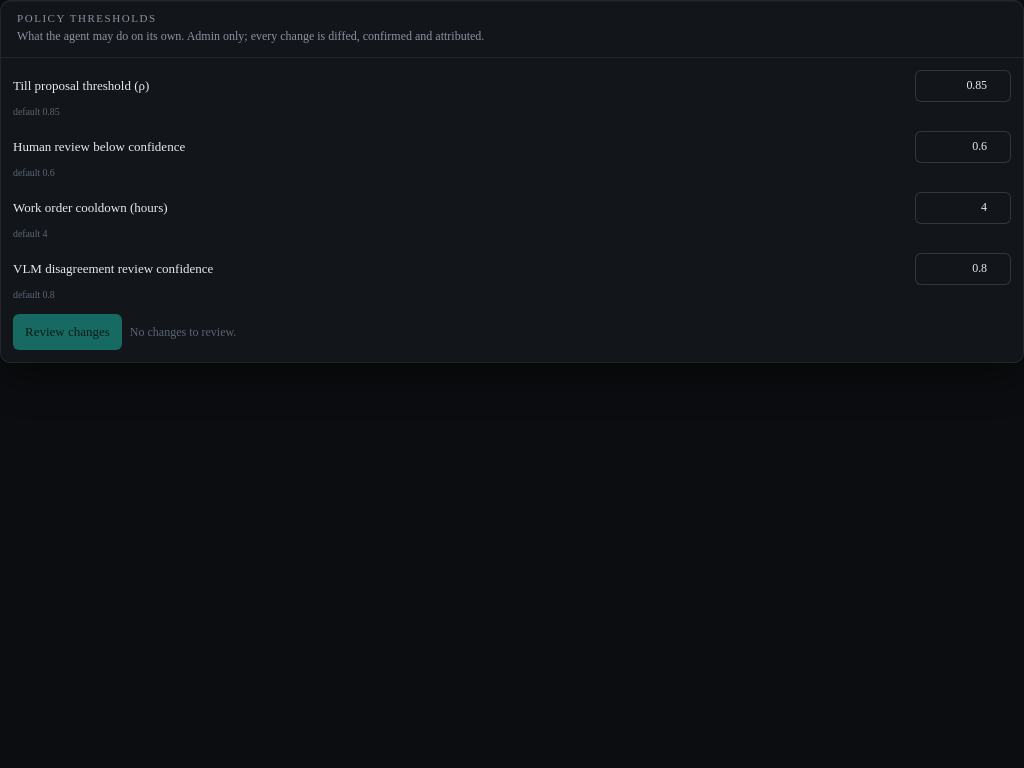
it: Security › admin edits the till threshold, reviews the diff, confirms with a note
expect the button with test id "policy-review" is disabled: met, box [13,314,122,350]
Replace the text in the number field with test id "policy-rho_threshold" with "0.9": (963, 86) [915,70,1011,102]
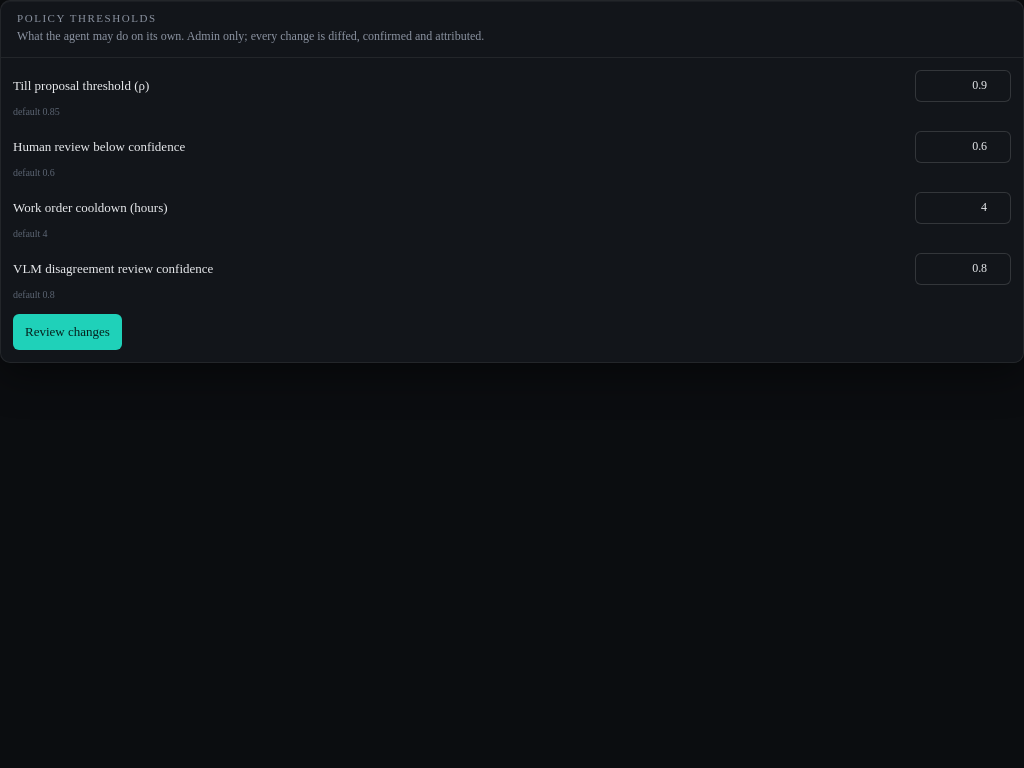
Click the button with test id "policy-review": (67, 332) [13,314,122,350]
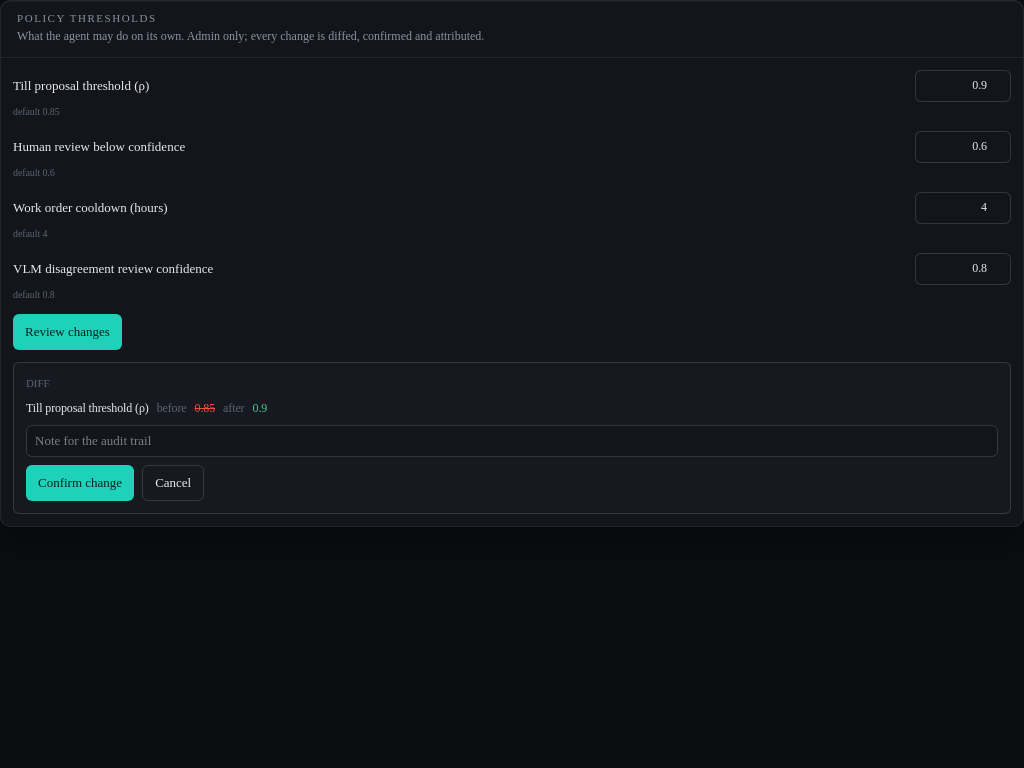
expect the list item with test id "diff-rho_threshold" shows "0.85": met, box [195,401,215,415]
expect the list item with test id "diff-rho_threshold" shows "0.9": met, box [252,401,267,415]
In the field with test id "policy-note": (512, 441) [26,425,998,457], type "peak season"
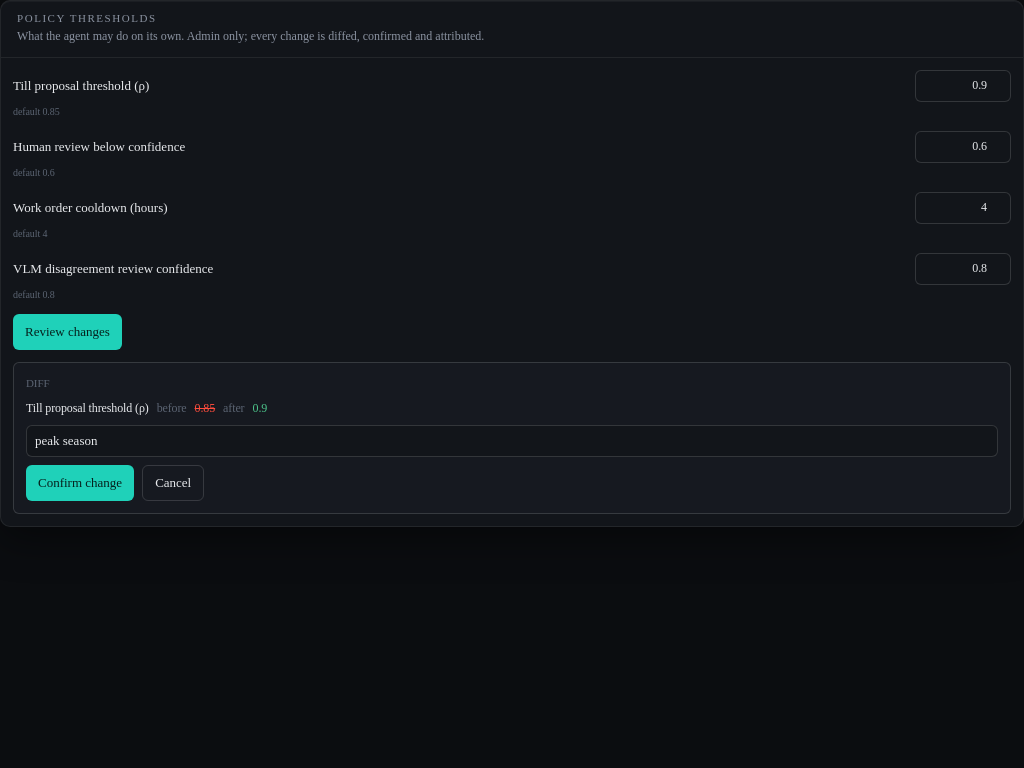
Click the button with test id "policy-confirm": (80, 483) [26,465,134,501]
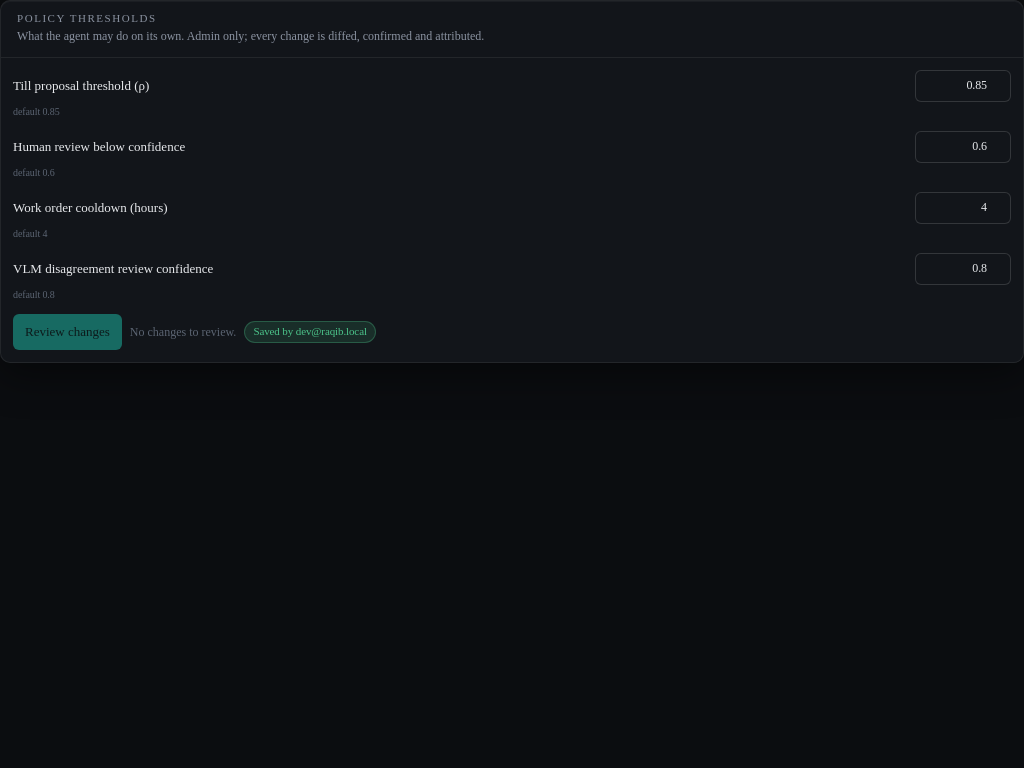
expect the text with test id "policy-saved" shows "dev@raqib.local": met, box [253,325,367,337]
